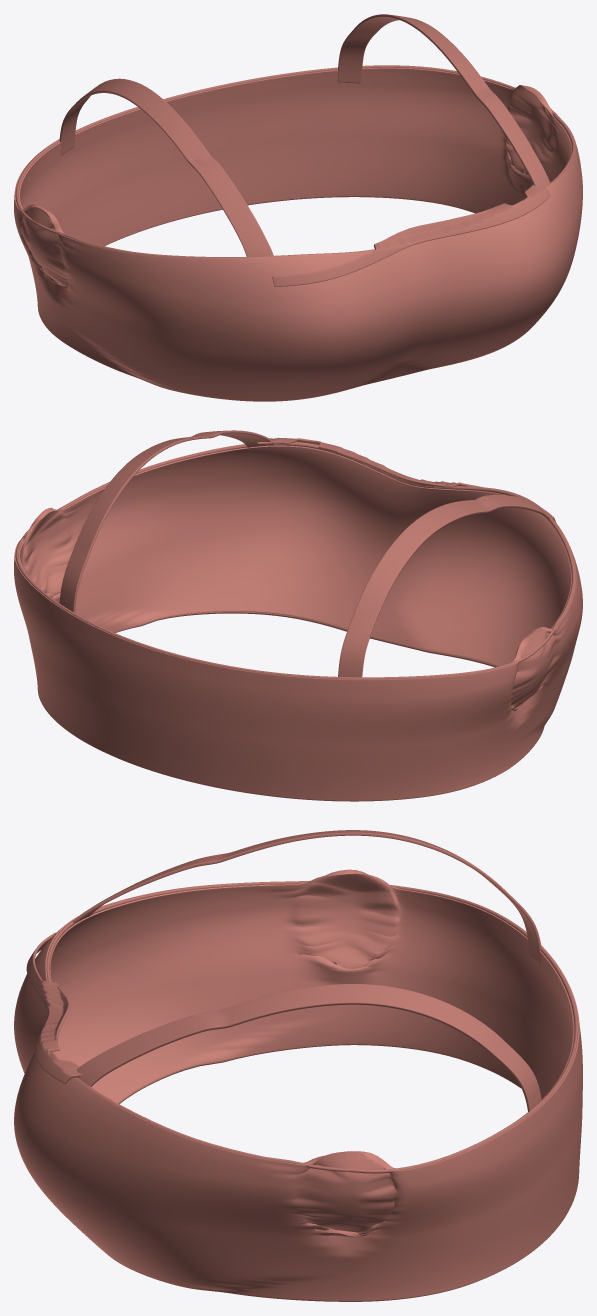
Rendered from Feminine-strappy-top.glb.
3 renders of one model, top to bottom at view 1: azimuth 30°, elevation 25°; view 2: azimuth 150°, elevation 25°; view 3: azimuth 270°, elevation 25°, orthographic. The views are drawn at different scales.
Visible parts, largest first — view 1: Clothing / strappy body, Clothing / Strappy seated shoulder strap -1, Clothing / Strappy seated shoulder strap 1, Crop / seated cross strap, strappy body / bound edge.001 export; view 2: Clothing / strappy body, Clothing / Strappy seated shoulder strap -1, Clothing / Strappy seated shoulder strap 1, strappy body / bound edge.001 export, Crop / seated cross strap, strappy body / bound edge export; view 3: Clothing / strappy body, Clothing / Strappy seated shoulder strap 1, strappy body / bound edge.001 export, Clothing / Strappy seated shoulder strap -1, Crop / seated cross strap, strappy body / bound edge export.
Part boxes in pixels (<box>): Clothing / strappy body: <box>14,67,582,401</box>; Clothing / Strappy seated shoulder strap -1: <box>59,78,273,256</box>; Clothing / Strappy seated shoulder strap 1: <box>337,14,550,186</box>; Crop / seated cross strap: <box>272,183,550,286</box>; strappy body / bound edge.001 export: <box>15,65,575,258</box>; Clothing / strappy body: <box>14,442,582,800</box>; Clothing / Strappy seated shoulder strap -1: <box>338,494,550,677</box>; Clothing / Strappy seated shoulder strap 1: <box>59,430,273,612</box>; strappy body / bound edge.001 export: <box>15,442,575,679</box>; Crop / seated cross strap: <box>257,437,555,521</box>; strappy body / bound edge export: <box>115,611,497,801</box>; Clothing / strappy body: <box>14,869,582,1301</box>; Clothing / Strappy seated shoulder strap 1: <box>77,984,541,1111</box>; strappy body / bound edge.001 export: <box>46,881,578,1173</box>; Clothing / Strappy seated shoulder strap -1: <box>72,830,541,965</box>; Crop / seated cross strap: <box>26,932,82,1083</box>; strappy body / bound edge export: <box>118,1044,487,1301</box>.
Size of the model in its own units: 0.6455 by 0.2881 by 0.5334.
